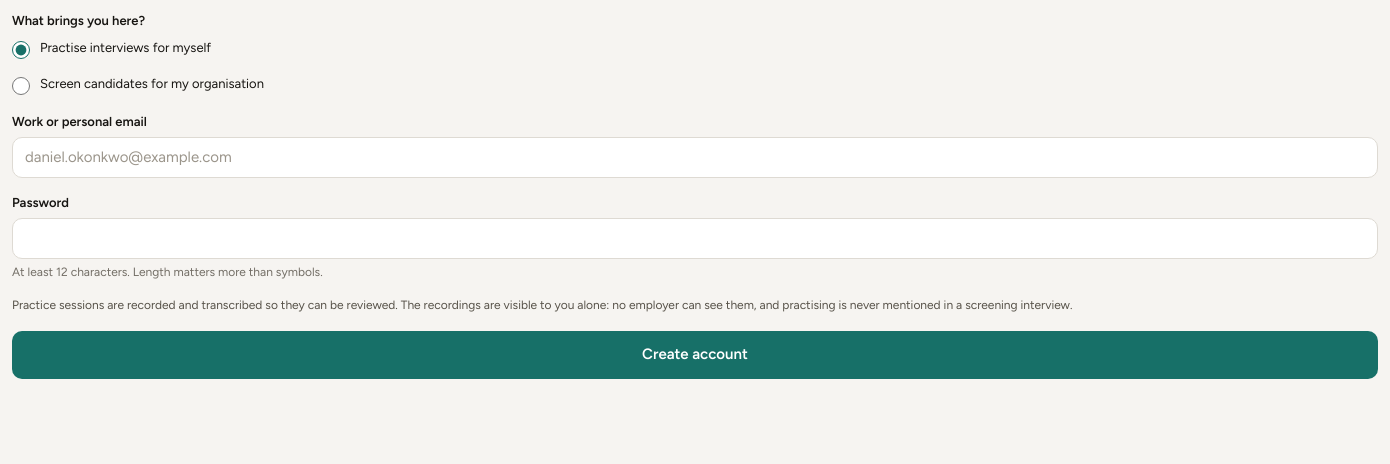
Test case: RegisterForm › asks for the organisation name once that account type is chosen
This screenshot has width=1390, height=464.
What coordinates should you click on to do the following:
click the radio button labelled "Screen candidates for my organisation"
I would click on:
 (21, 86)
Its box is [12,77,30,95].
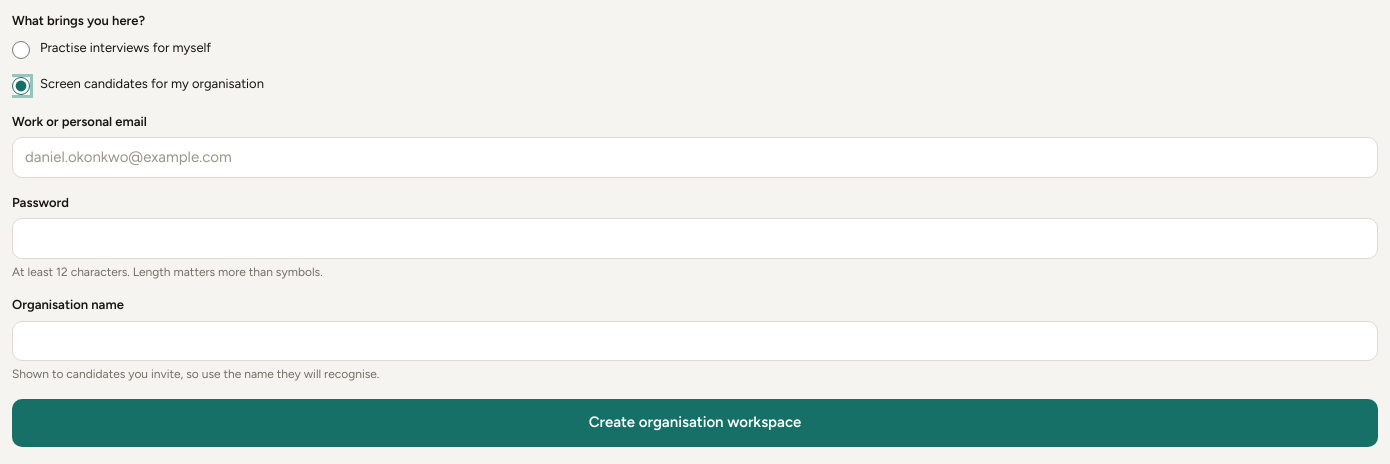
Expected: the field labelled "Organisation name" is shown, [12,321,1378,361]
